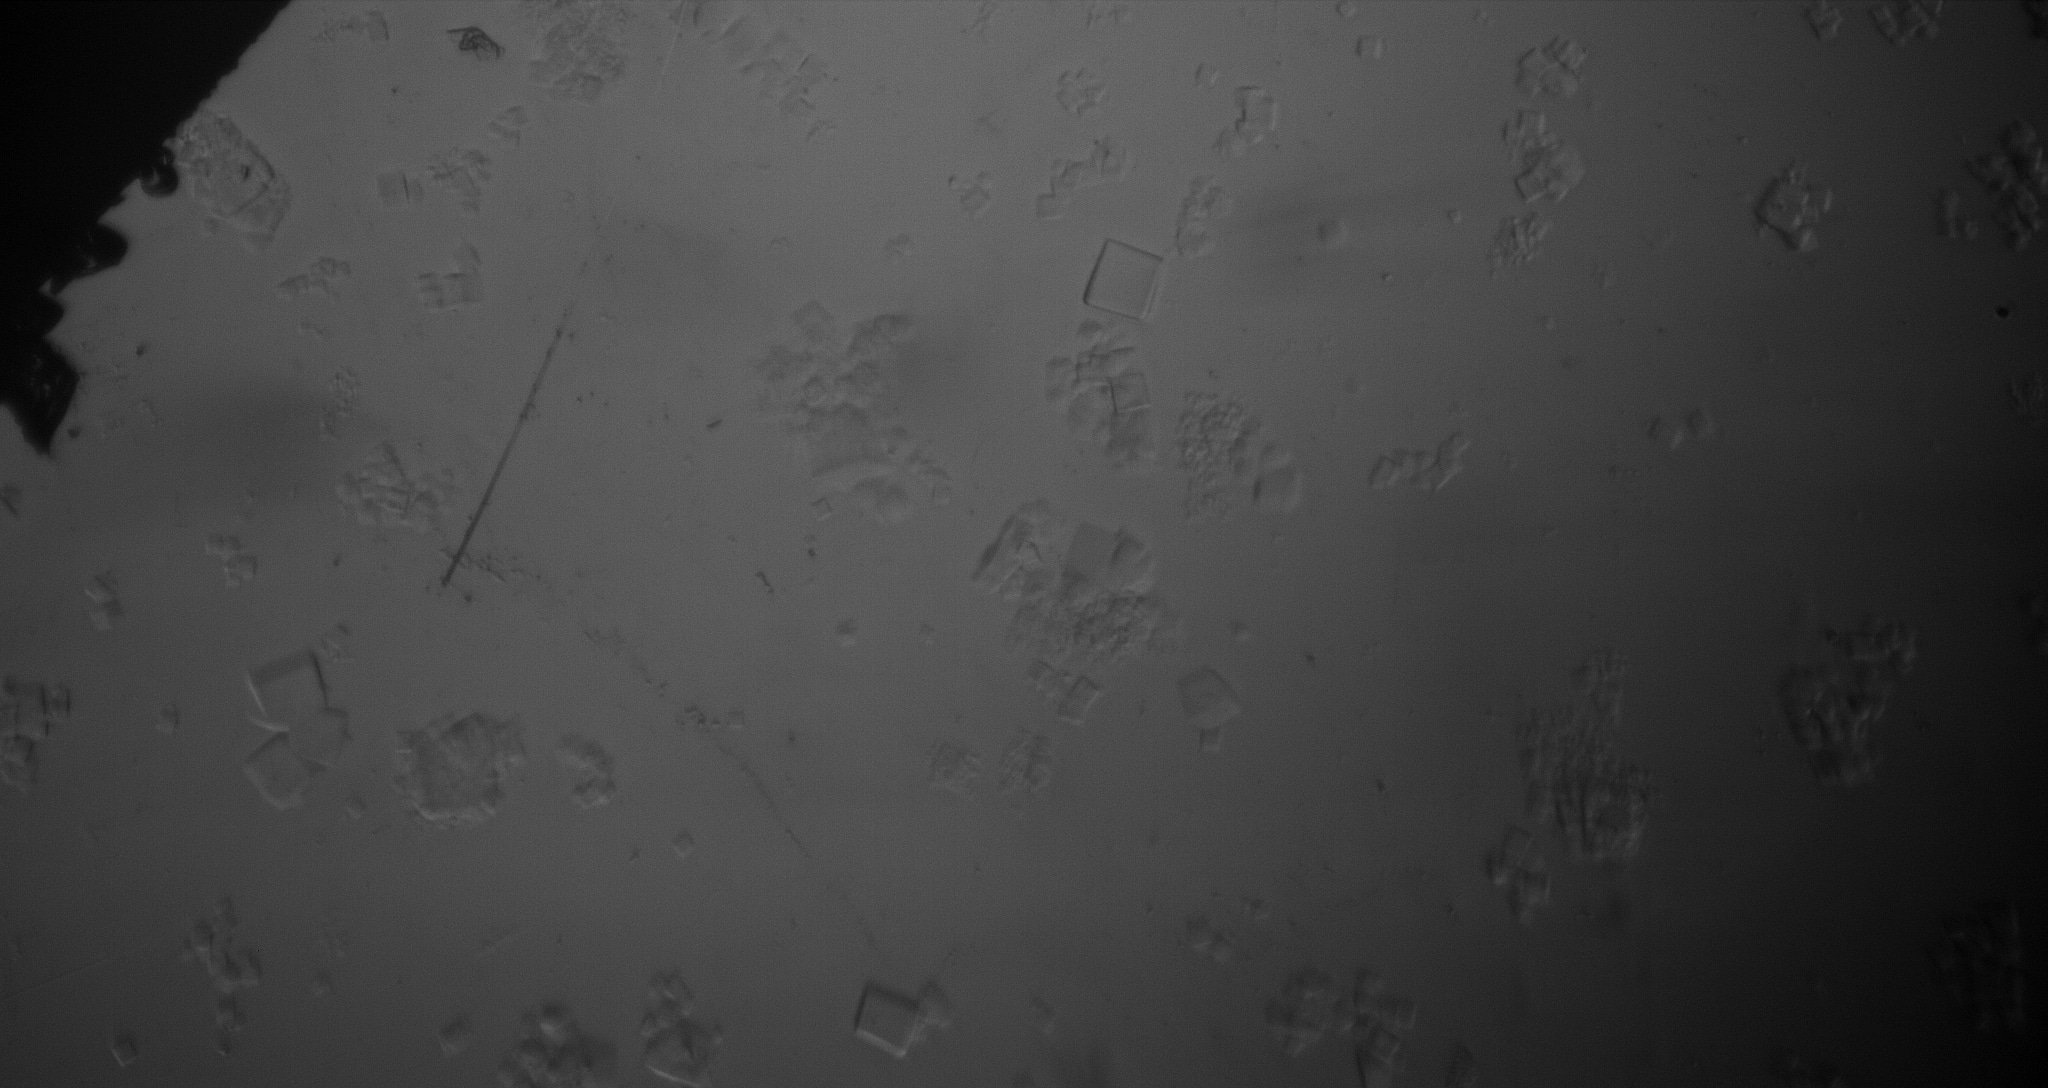square: (1075, 236, 1172, 327), (848, 976, 929, 1062), (242, 646, 335, 722), (1165, 669, 1256, 728), (1250, 470, 1308, 522), (1233, 89, 1292, 137), (431, 1018, 477, 1060), (372, 169, 412, 210), (1644, 419, 1682, 454), (148, 705, 186, 740), (1510, 169, 1547, 205), (106, 1038, 142, 1072), (1499, 822, 1533, 859), (1686, 402, 1715, 443), (223, 556, 261, 585), (1368, 457, 1399, 490), (1067, 676, 1103, 705), (1354, 34, 1388, 58), (1184, 916, 1214, 943), (1195, 728, 1224, 753), (1191, 65, 1218, 91), (666, 833, 695, 858), (806, 496, 834, 520), (929, 482, 956, 505), (725, 706, 746, 732)
